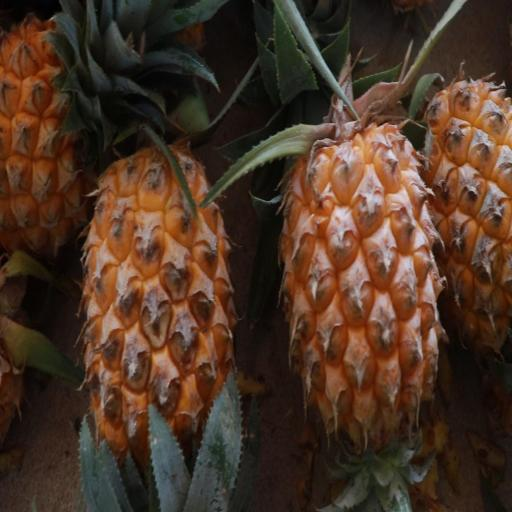Pineapple - v8 v1: (274, 113, 443, 512), (76, 122, 245, 512), (0, 0, 119, 269), (417, 69, 512, 376)
